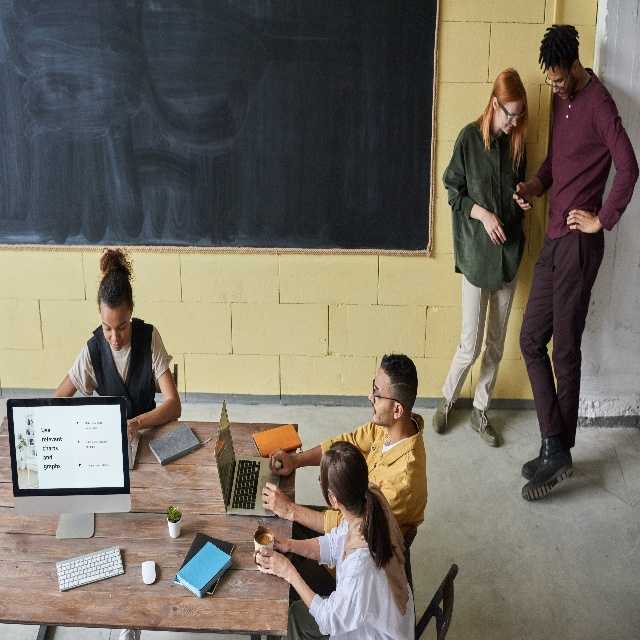Gafas: (372, 378, 405, 409), (544, 62, 574, 91), (498, 99, 525, 124), (318, 475, 332, 493)
Sin_guantes: (255, 547, 291, 579), (262, 481, 290, 519), (483, 210, 507, 245), (566, 208, 596, 234), (268, 448, 295, 476), (513, 181, 532, 211), (127, 416, 140, 444), (273, 532, 289, 554)
